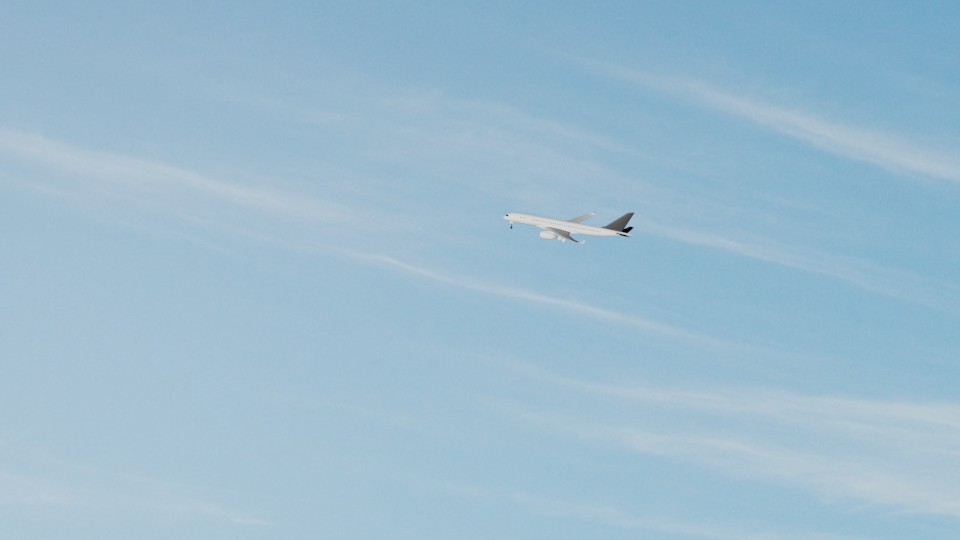plane: (500, 205, 634, 247)
